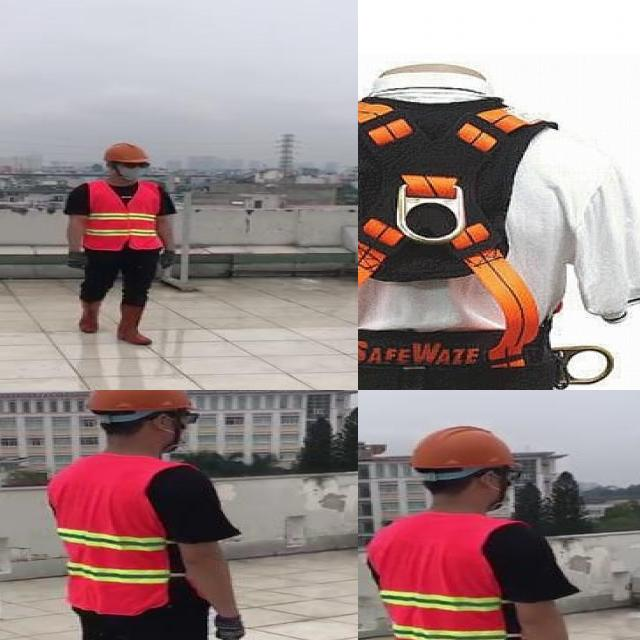Harness: (358, 98, 560, 390)
boots: (116, 304, 158, 345), (78, 299, 102, 335)
face_mask: (111, 160, 153, 182)
glasses: (117, 160, 152, 172)
hand_glove: (210, 614, 249, 640), (67, 250, 88, 269), (158, 250, 177, 271)
head_helmet: (404, 424, 526, 472), (80, 390, 198, 415), (101, 140, 152, 166)
person: (34, 390, 255, 640), (362, 413, 589, 640), (58, 135, 188, 351)
vest: (47, 452, 189, 616), (363, 510, 511, 640), (84, 180, 164, 249)
